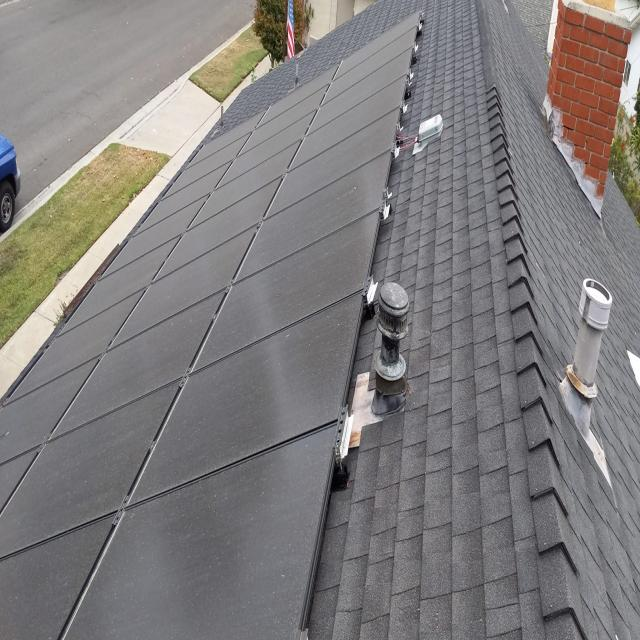dust-solar-panel: (0, 19, 421, 640)
